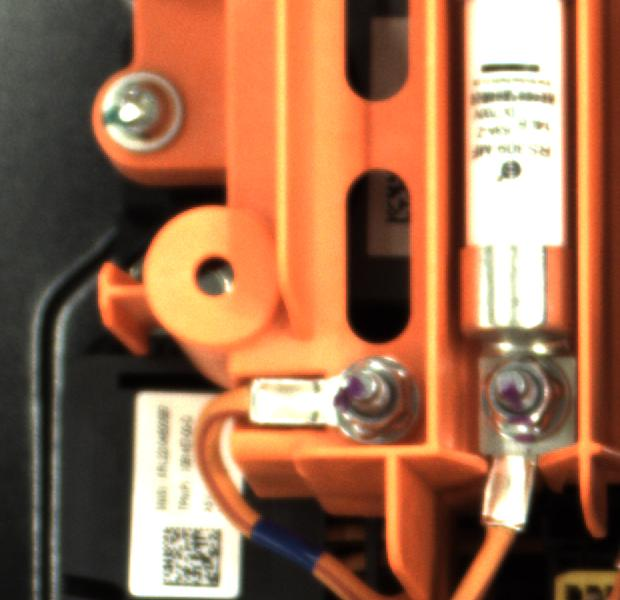screw_m: (99, 71, 196, 160)
screw_s: (473, 344, 575, 439), (324, 350, 426, 437)
